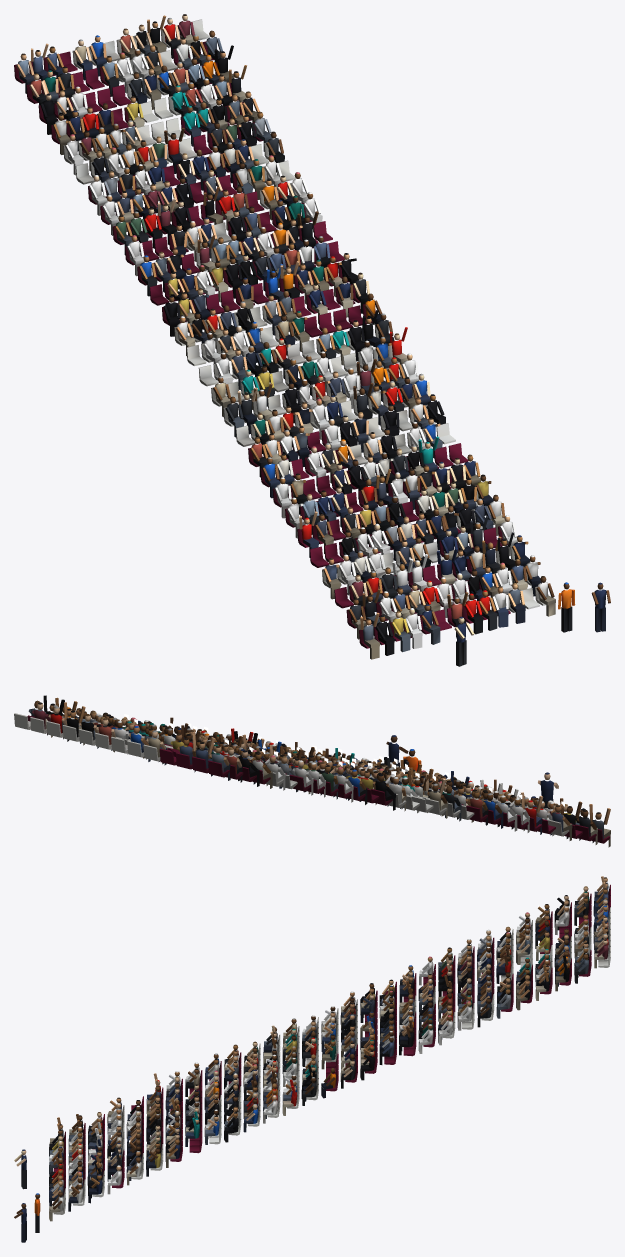
The model's file is stand_north_kit_1.glb.
3 renders of one model, top to bottom at view 1: azimuth 30°, elevation 25°; view 2: azimuth 150°, elevation 25°; view 3: azimuth 270°, elevation 25°, orthographic. The views are drawn at different scales.
Parts seen in each view (by area): view 1: kit_1; view 2: kit_1; view 3: kit_1.
Part boxes in pixels (x1=…): kit_1: x1=14, y1=14, x2=610, y2=666; kit_1: x1=14, y1=695, x2=610, y2=847; kit_1: x1=14, y1=876, x2=610, y2=1242.
Size of the model in its own units: 8.47 by 13.01 by 24.54.
